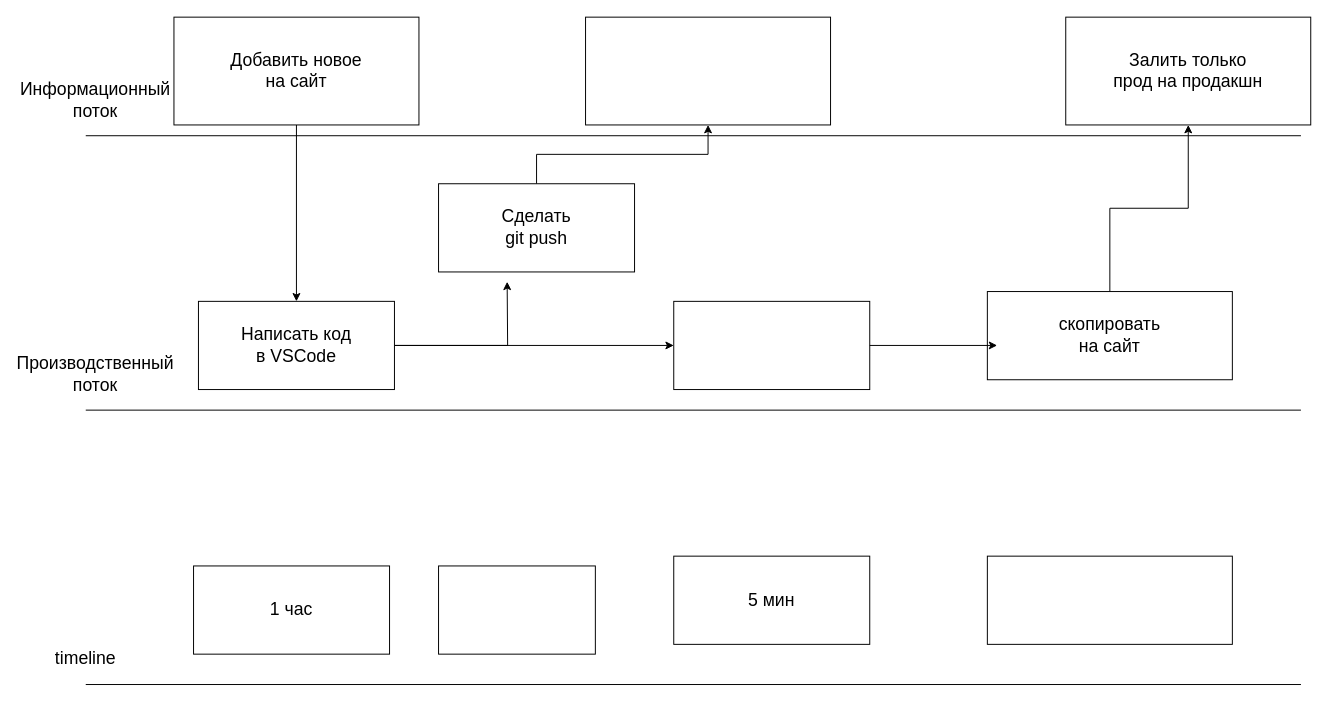
Image size: 1328x703. Some labels were removed from this diagram. Here are the shapes that lost their labels. From the top down, the box of each, then its label:
(585, 16, 831, 125): Запушить на гитхаб
(673, 300, 870, 390): local build for prod
(438, 565, 595, 654): 3 мин
(986, 555, 1232, 644): 15 мин
